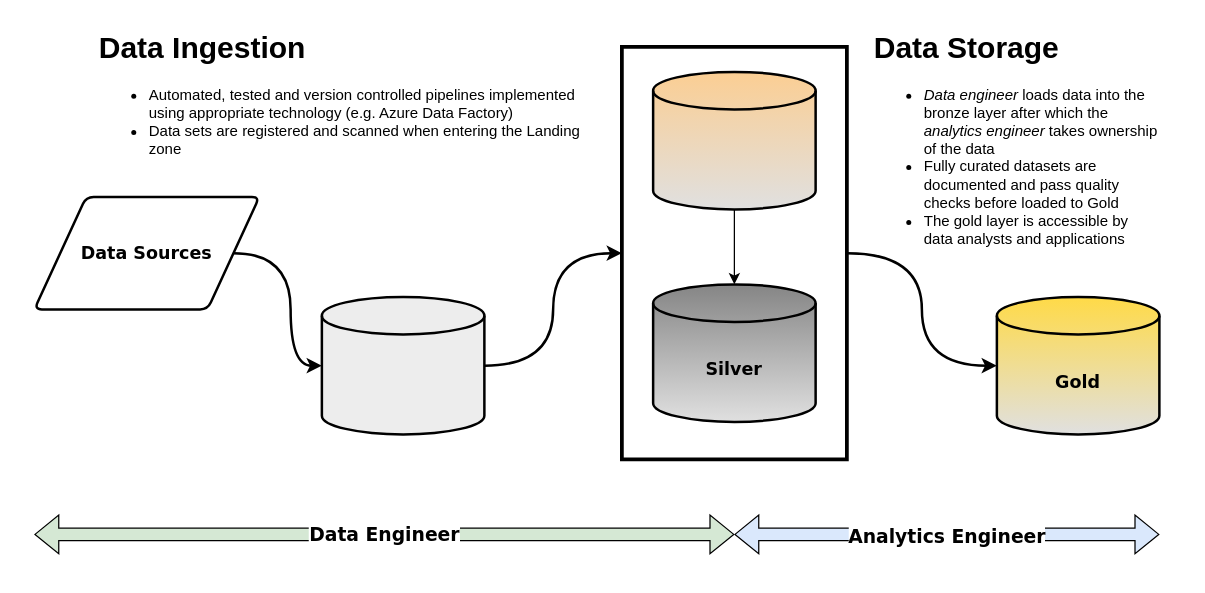
Some shapes in this 1205 by 593 pixel diagram are drawn without their labels. Each missing label, with the box of its shape:
Bronze: (651, 70, 816, 210)
Landing: (320, 295, 485, 435)
